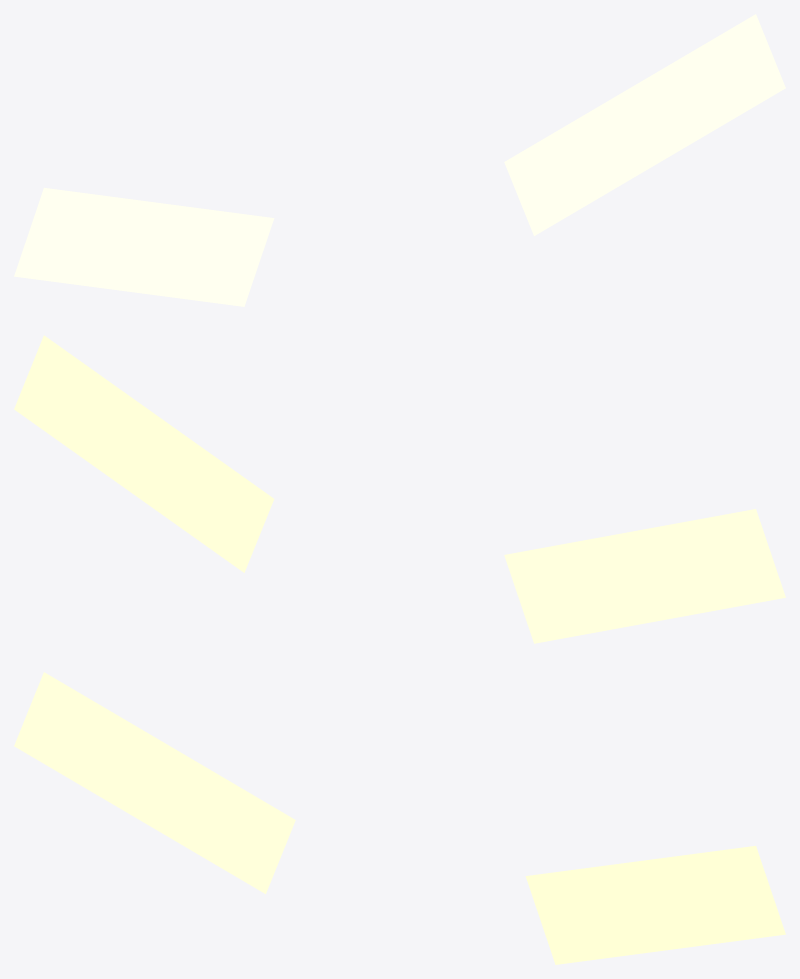
Rendered from soberano_olhos.fbx.
The picture shows the model from 3 angles, top to bottom: view 1: azimuth 30°, elevation 25°; view 2: azimuth 150°, elevation 25°; view 3: azimuth 330°, elevation 25°; orthographic projection.
Parts seen in each view (by area): view 1: soberano_olhos; view 2: soberano_olhos; view 3: soberano_olhos.
Boxes of the visible parts, x1,y1,x2,y2 form: soberano_olhos: [14, 14, 785, 306]; soberano_olhos: [14, 335, 785, 643]; soberano_olhos: [14, 672, 785, 964].
Size of the model in its own units: 0.8323 by 0.184 by 0.02.
